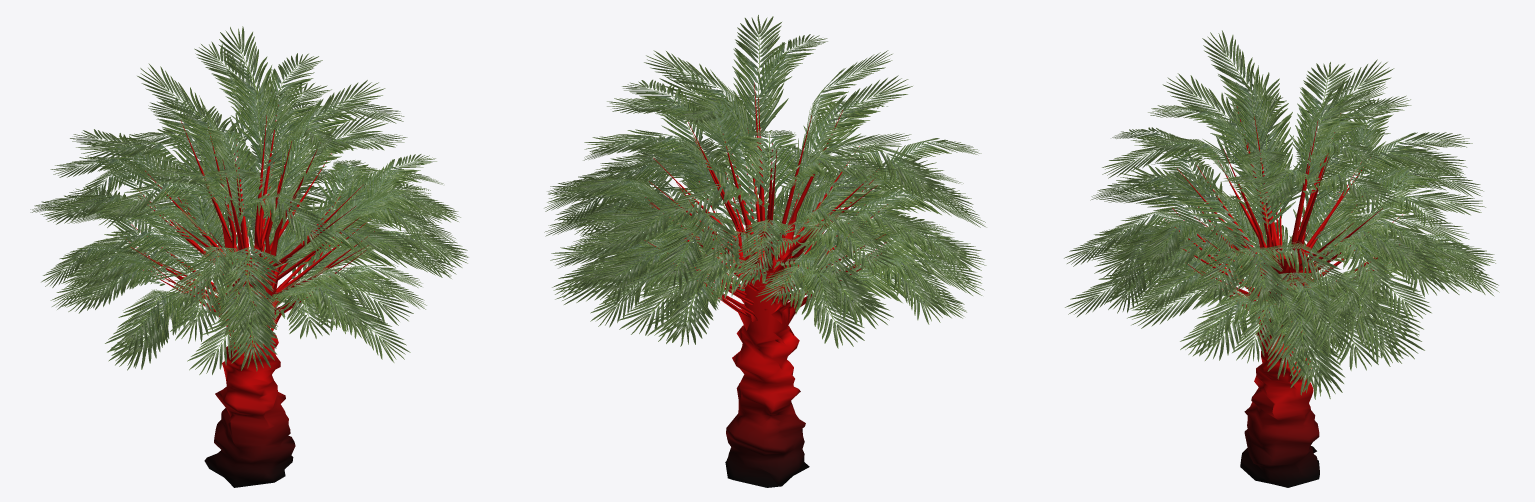
Rendered from Palm_3_8.fbx.
3 renders of one model, left to right at view 1: azimuth 30°, elevation 25°; view 2: azimuth 150°, elevation 25°; view 3: azimuth 270°, elevation 25°, orthographic. The views are drawn at different scales.
Parts seen in each view (by area): view 1: Palm_3_8; view 2: Palm_3_8; view 3: Palm_3_8.
Boxes of the visible parts, x1,y1,x2,y2 form: Palm_3_8: [30, 26, 468, 487]; Palm_3_8: [544, 15, 986, 487]; Palm_3_8: [1064, 30, 1499, 487].
Size of the model in its own units: 4512 by 4130 by 4499.
